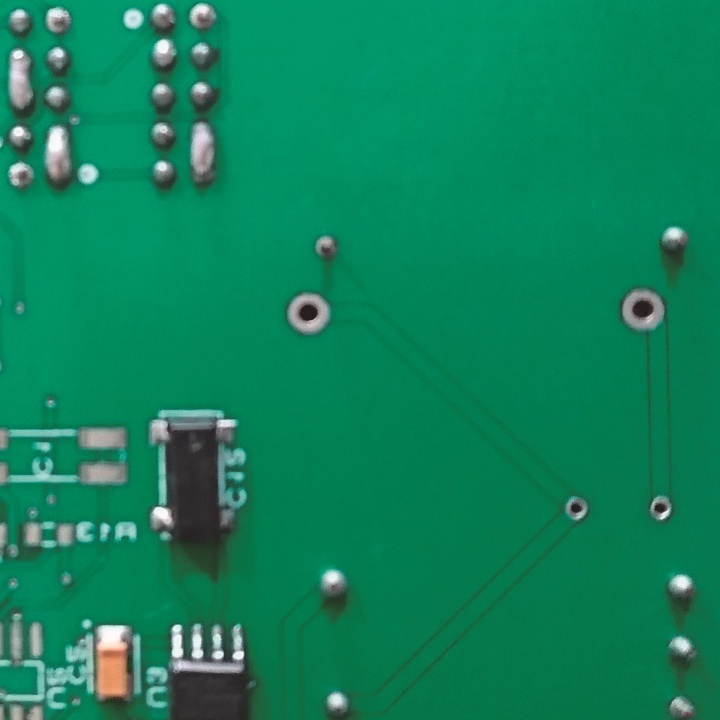F: (616, 287, 667, 336), (285, 289, 332, 337), (188, 1, 220, 32), (667, 689, 696, 720), (45, 6, 73, 38), (562, 491, 590, 523), (5, 162, 37, 189), (312, 233, 339, 263), (646, 492, 671, 523)
P: (42, 122, 75, 188), (188, 120, 219, 187), (7, 47, 34, 113)
